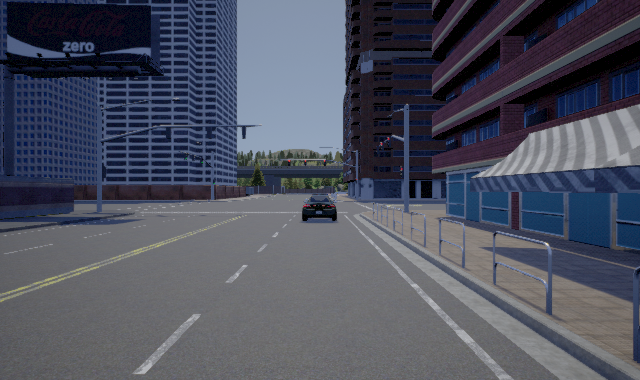traffic_light: (387, 137, 391, 147), (380, 142, 384, 151), (376, 146, 379, 154), (324, 160, 326, 166), (304, 160, 306, 166), (288, 160, 290, 166)
vehicle: (302, 194, 337, 221)
